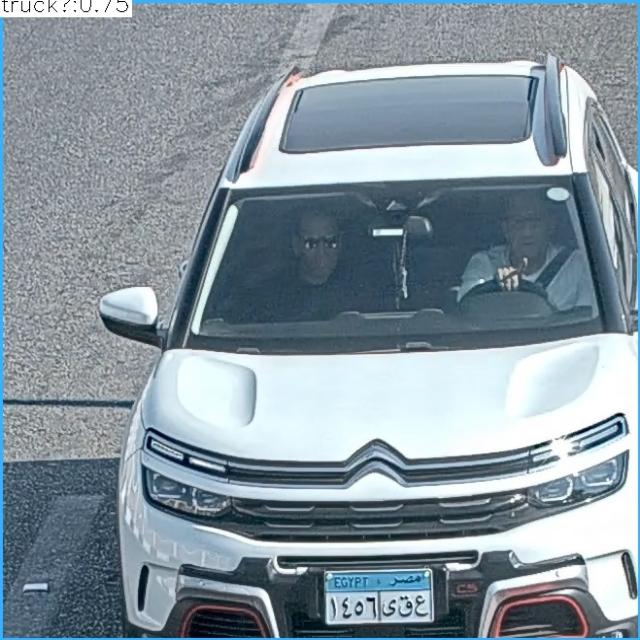windshield: (180, 171, 598, 333)
